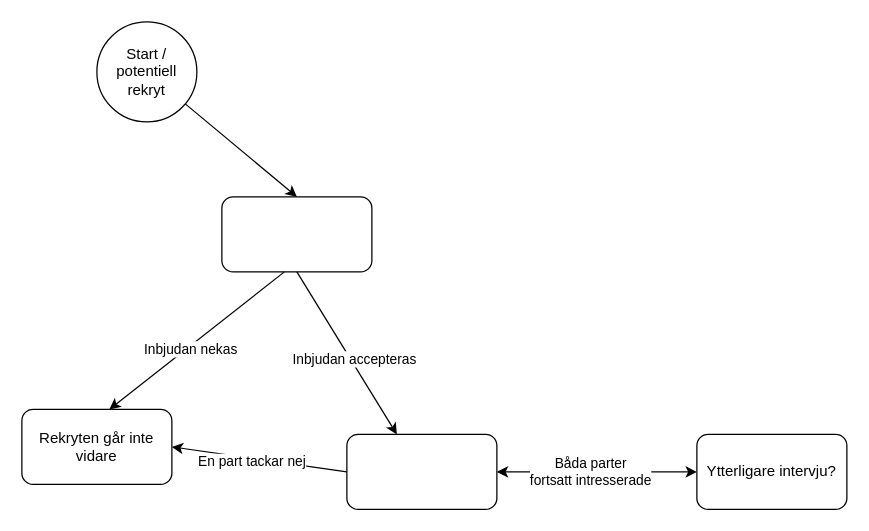
Some shapes in this 869 by 531 pixel diagram are drawn without their labels. Here are the shapes that lost their labels. From the top down, the centre of each, then its label:
the point at 296,234: Kalla till intervju
the point at 421,471: Hålla intervju
